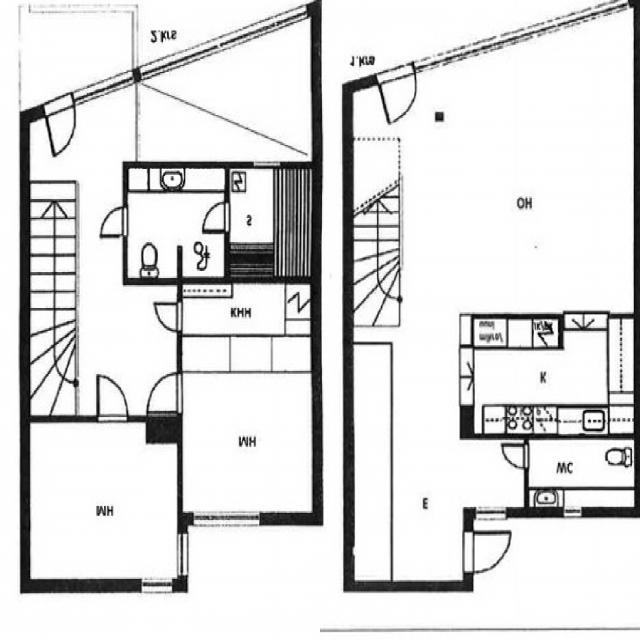door: (377, 62, 422, 134), (43, 92, 83, 158), (464, 532, 504, 572), (98, 374, 128, 422), (150, 374, 182, 412), (202, 202, 230, 233), (100, 207, 128, 237), (157, 303, 182, 331), (506, 442, 528, 468)
